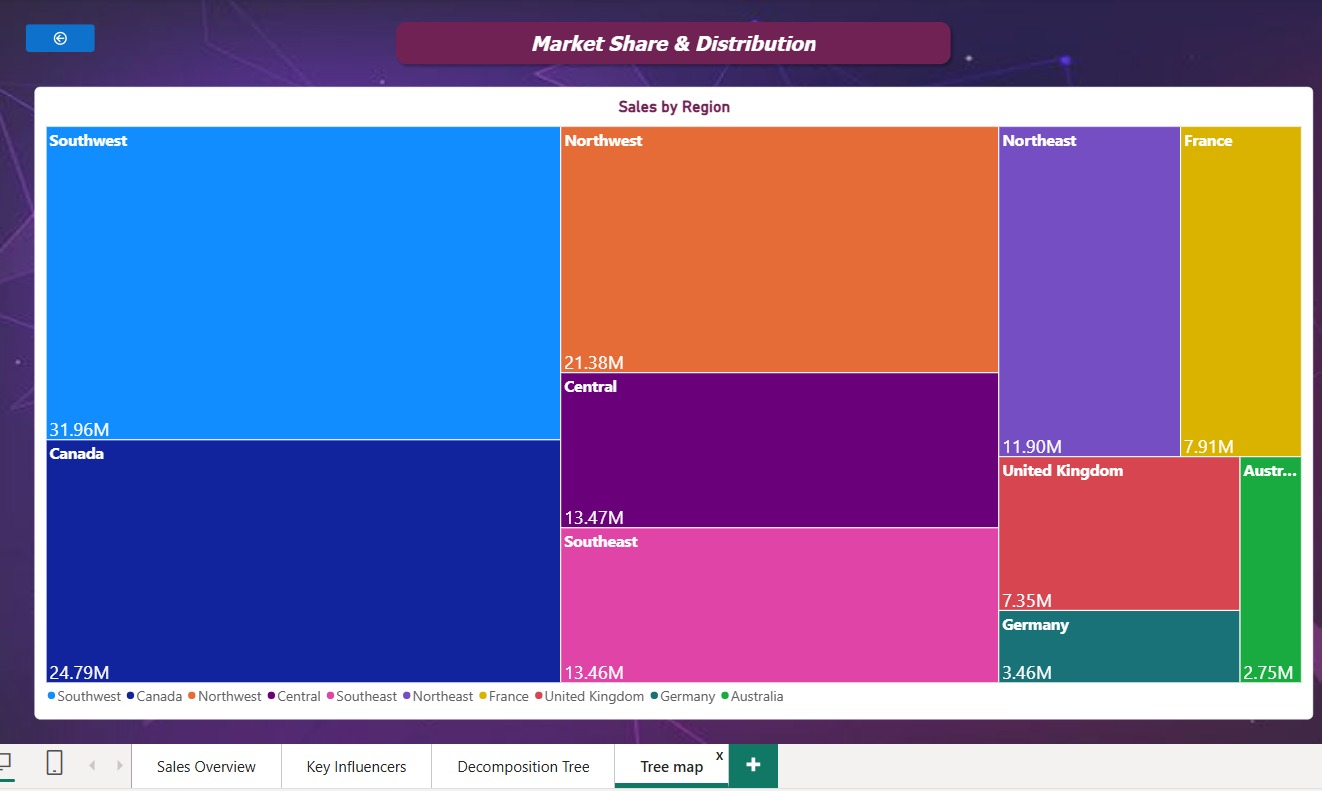

The dashboard page shown, as its layout file describes it:
{"tool":"powerbi","page":{"name":"Tree map","canvas":[1920,1080],"ordinal":3},"visuals":[{"type":"actionButton","box":[41.6,38,100,40],"z":0},{"type":"shape","box":[568.2,25.3,821.6,79.6],"z":1000},{"type":"treemap","title":"Sales by Region","fields":{"Group":["Region.Region Name"],"Values":["Sum(Sales.Total Sales)"]},"box":[54.3,128.5,1851.3,915.7],"z":2000}]}

Visuals, with their boxes on the page's 1920x1080 design canvas (x1, y1, x2, y2). These are canvas units, not pixel positions in the 1322x791 screenshot, which may show the page scaled, cropped or inside an application window:
actionButton: select_region(42, 38, 142, 78)
shape: select_region(568, 25, 1390, 105)
"Sales by Region" treemap: select_region(54, 128, 1906, 1044)
